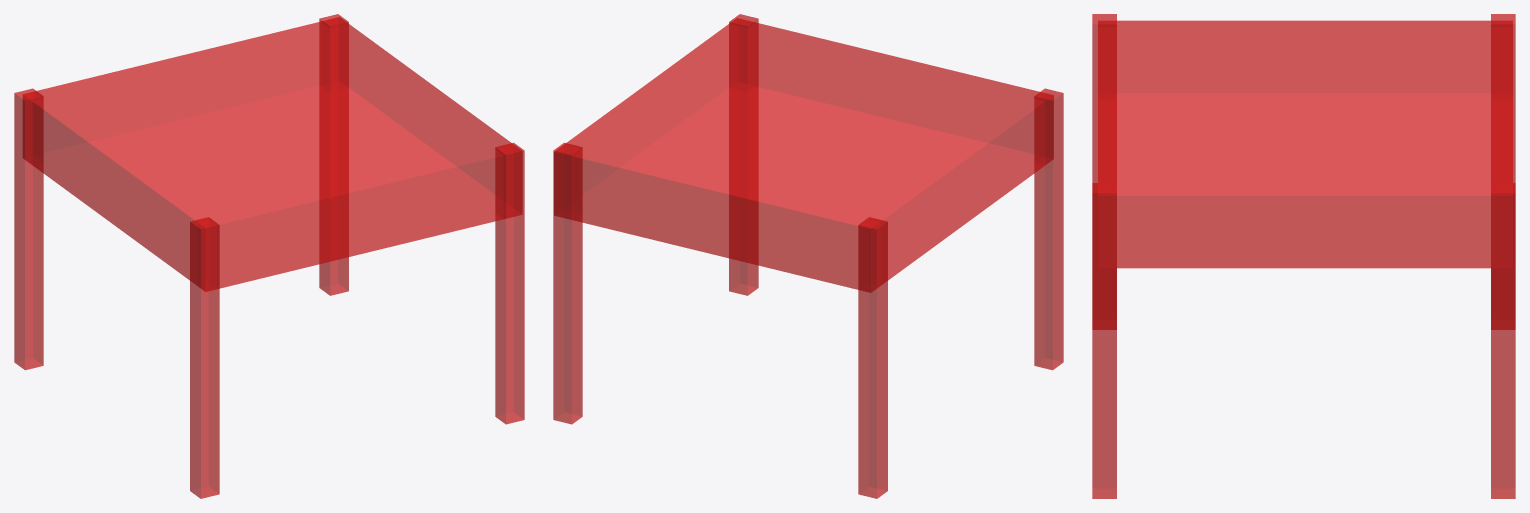
File: SM_Bld_Cuba_Sunshade_01_Collision.fbx
3 renders of one model, left to right at view 1: azimuth 30°, elevation 25°; view 2: azimuth 150°, elevation 25°; view 3: azimuth 270°, elevation 25°, orthographic. The views are drawn at different scales.
Parts seen in each view (by area): view 1: SM_Bld_Cuba_Sunshade_01_Collision; view 2: SM_Bld_Cuba_Sunshade_01_Collision; view 3: SM_Bld_Cuba_Sunshade_01_Collision.
Part boxes in pixels (x1,y1,x2,y2): SM_Bld_Cuba_Sunshade_01_Collision: [14, 14, 524, 498]; SM_Bld_Cuba_Sunshade_01_Collision: [553, 14, 1063, 498]; SM_Bld_Cuba_Sunshade_01_Collision: [1092, 14, 1515, 498].
Size of the model in its own units: 406 by 323 by 404.
